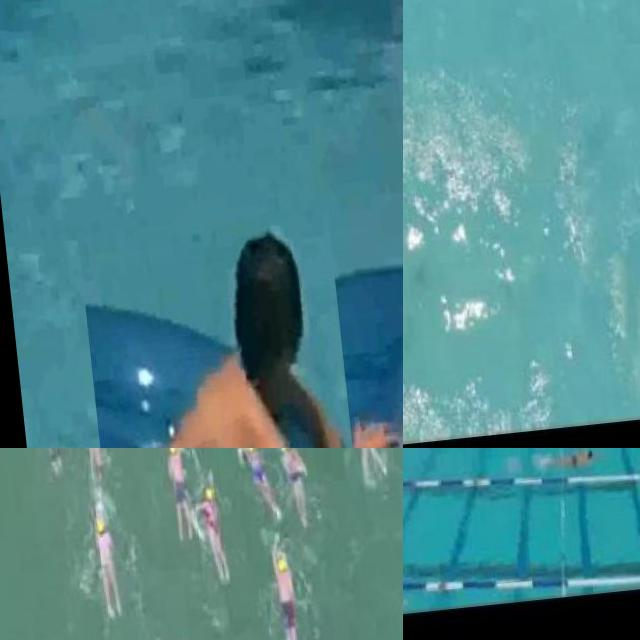swimming: (77, 208, 355, 448), (88, 506, 128, 630), (198, 470, 238, 594), (160, 448, 201, 548), (264, 547, 305, 640), (234, 448, 279, 526), (275, 448, 315, 531), (347, 448, 388, 495), (544, 448, 598, 475)
